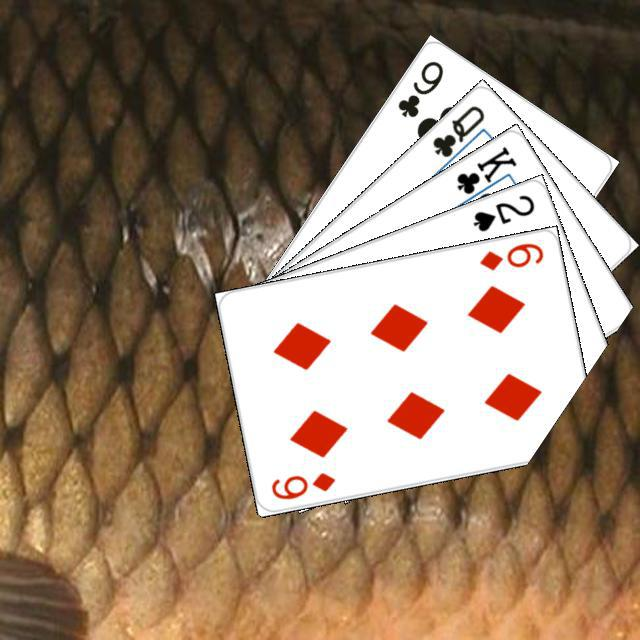2s: (468, 189, 537, 234)
6d: (474, 238, 545, 272), (266, 467, 337, 501)
9c: (393, 55, 446, 120)
Kc: (451, 141, 519, 208)
Qc: (427, 100, 489, 172)
